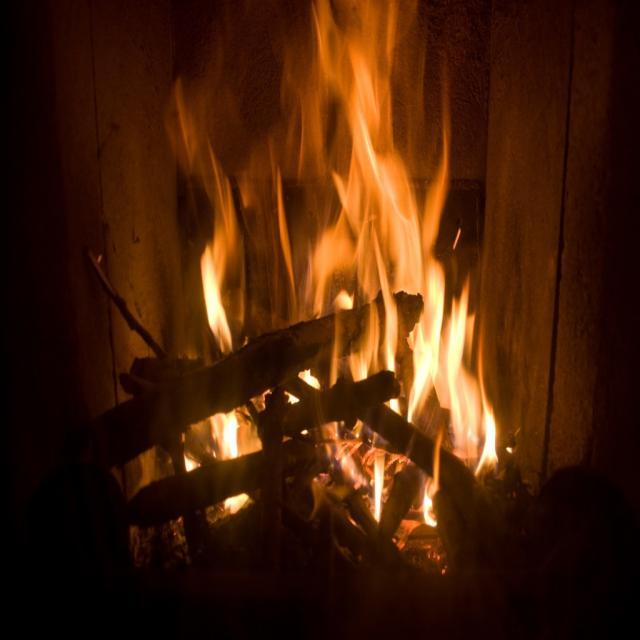Fire: (165, 1, 499, 530)
